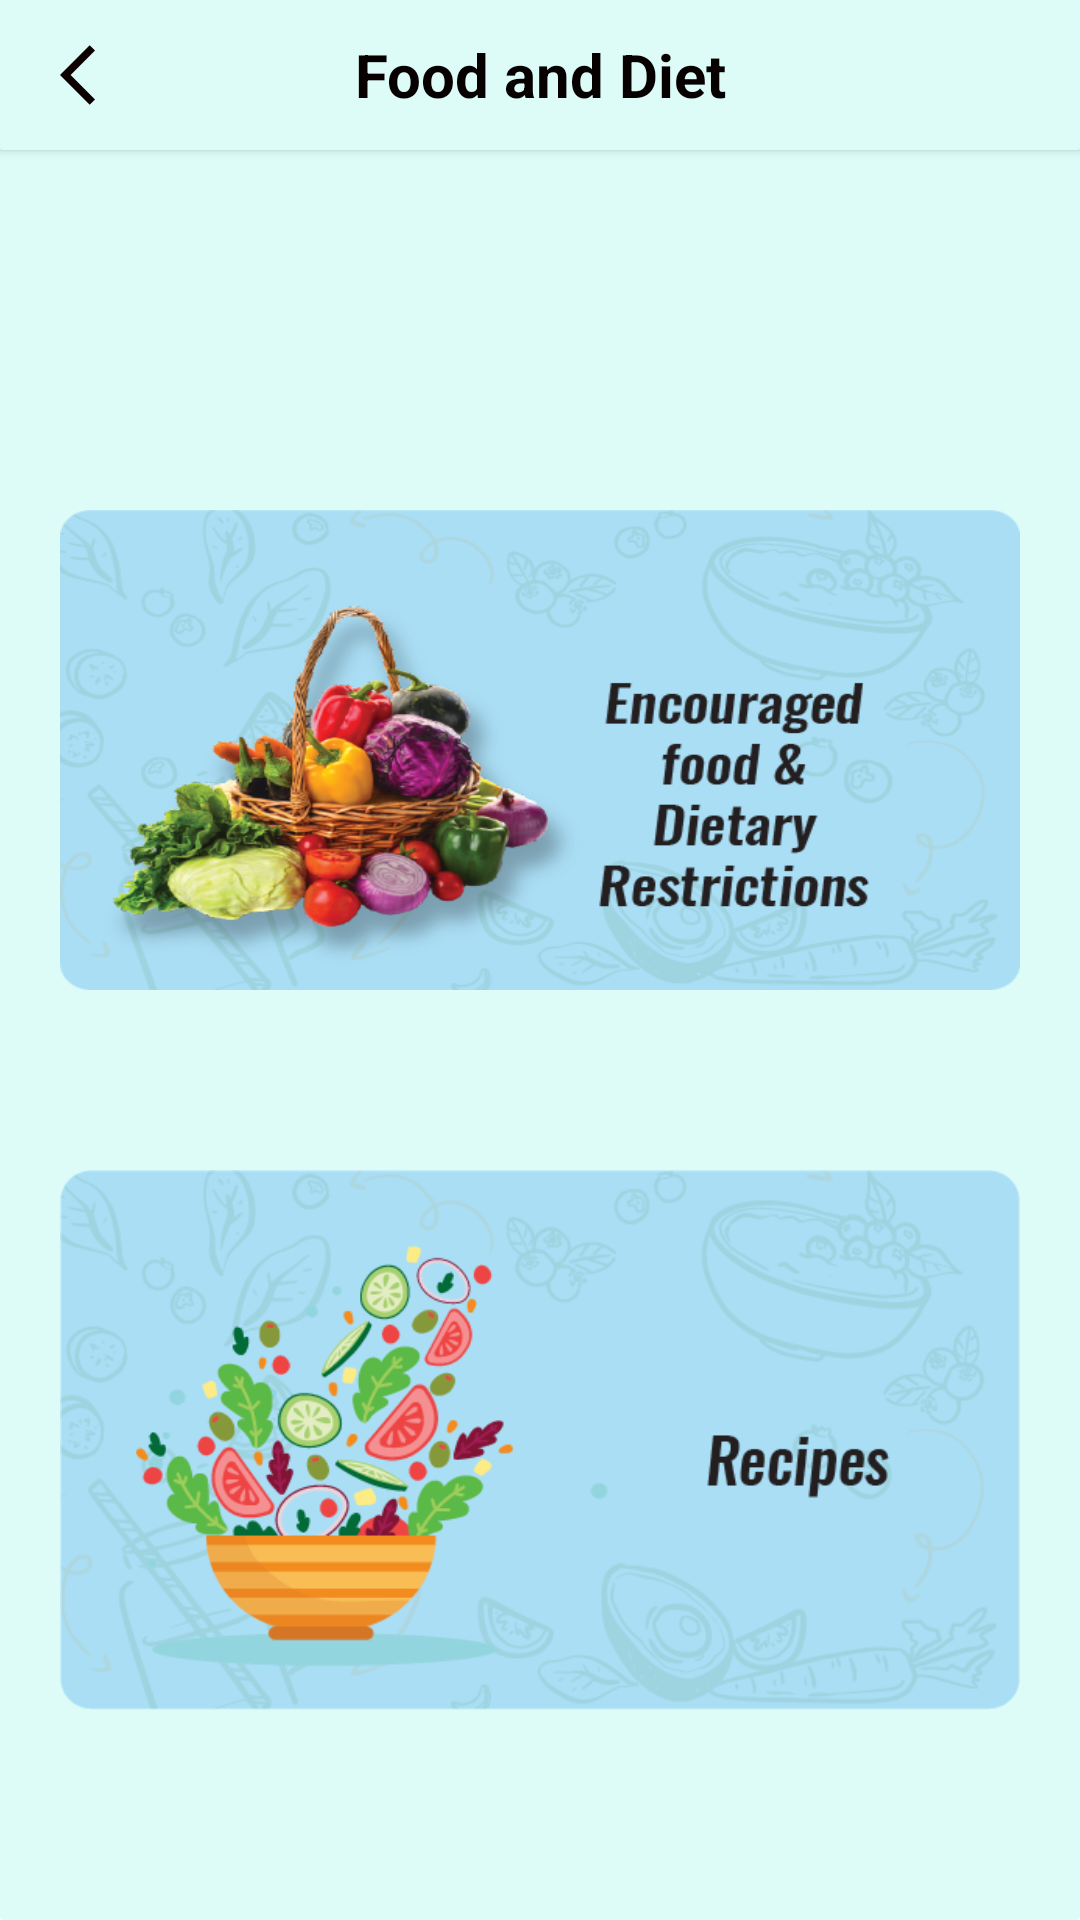

Icon click points for this 1080x1920 phone screenshot, format point (x, y):
back: point (77, 75)
